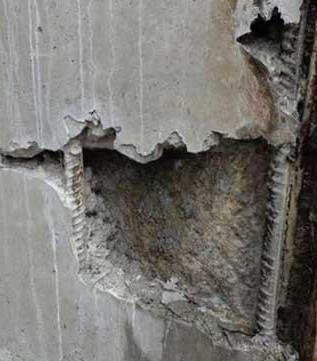Exposed reinforcement: (252, 1, 308, 338), (62, 140, 86, 272)
Spalling: (1, 107, 317, 361), (236, 1, 317, 107)
